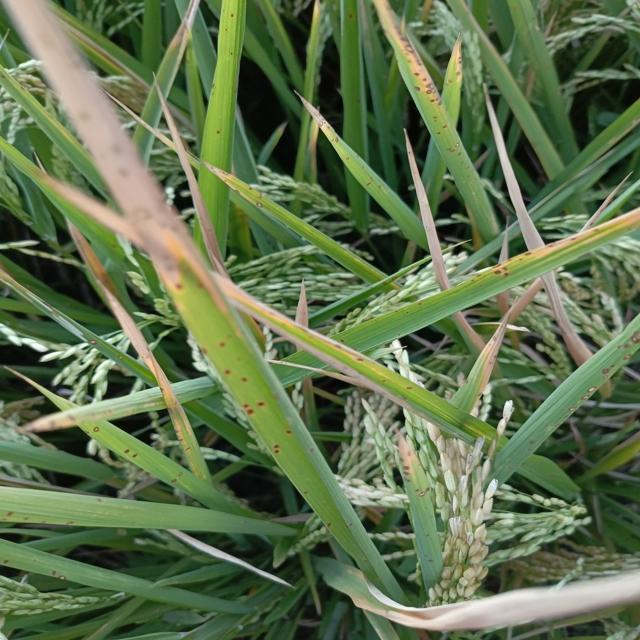Brown spot: (0, 0, 227, 280), (332, 563, 640, 640), (480, 82, 550, 248), (404, 123, 453, 294), (460, 294, 519, 402), (537, 272, 600, 365), (392, 426, 432, 488)
insects: (409, 71, 444, 107), (616, 328, 640, 364), (199, 333, 238, 355), (486, 258, 515, 282), (396, 446, 413, 483), (174, 279, 213, 295), (222, 364, 250, 386), (240, 397, 267, 417), (363, 174, 383, 192), (602, 362, 616, 384), (525, 436, 540, 456), (122, 446, 142, 461), (446, 142, 464, 158), (270, 440, 282, 458), (170, 470, 185, 484), (381, 275, 400, 286), (436, 122, 450, 136), (330, 134, 343, 147), (255, 192, 264, 210), (300, 487, 312, 498), (324, 521, 335, 532), (356, 356, 368, 366), (404, 384, 415, 393), (338, 337, 349, 346), (284, 427, 294, 436), (343, 155, 353, 163), (457, 53, 464, 64), (93, 426, 102, 434), (234, 187, 242, 195), (309, 445, 316, 454), (214, 128, 223, 135), (380, 378, 389, 384), (230, 12, 236, 20), (454, 71, 463, 76), (347, 13, 355, 18)
